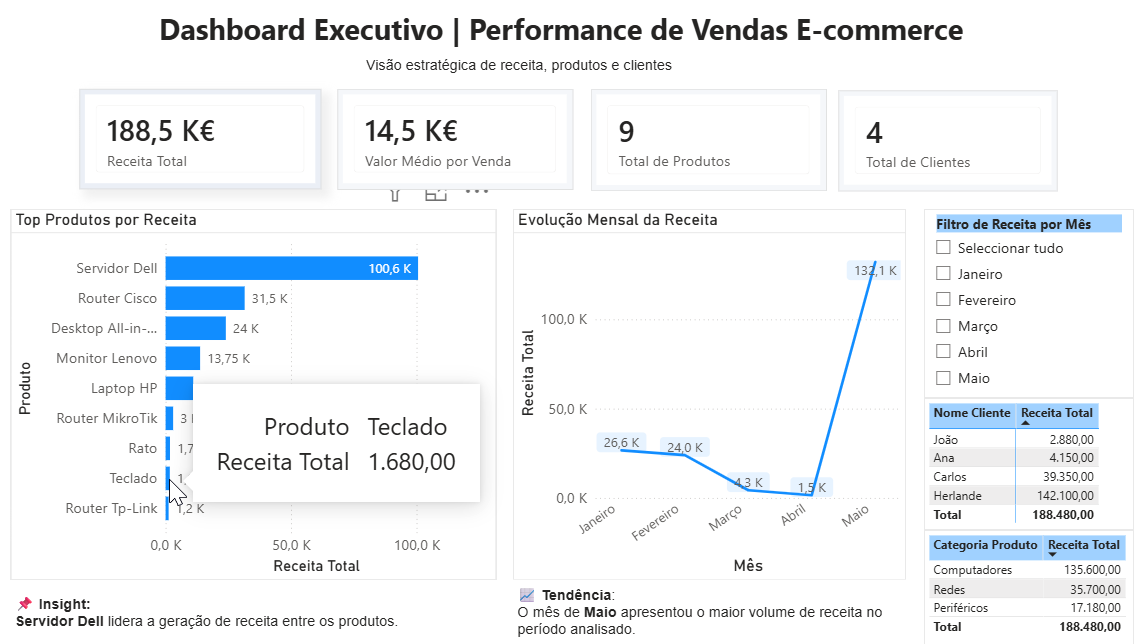

The page's visual inventory and layout, read from the dashboard file:
{"tool":"powerbi","page":{"name":"dashboard_ecommerce","canvas":[1280,720],"ordinal":0},"visuals":[{"type":"lineChart","title":"Evolução Mensal da Receita","fields":{"Y":["Vendas .Receita Total"],"Category":["Data Venda.Mês"]},"box":[573.3,233.3,436.7,411.7],"z":0},{"type":"pivotTable","fields":{"Rows":["Clientes.Nome Cliente"],"Values":["Vendas .Receita Total"]},"box":[1030,443,233.3,146.7],"z":1000},{"type":"clusteredBarChart","title":"Top Produtos por Receita","fields":{"Category":["dim_produtos.nome"],"Y":["fato_vendas.Receita Total"]},"box":[15,233.3,540,411.7],"z":2000},{"type":"textbox","box":[175,5,968.3,53.3],"z":3000},{"type":"textbox","box":[405,58.3,470,38.3],"z":4000},{"type":"cardVisual","fields":{"Data":["fato_vendas.Receita Total"]},"box":[91.7,100,268.3,111],"z":5000},{"type":"textbox","box":[15,655,453.3,51.7],"z":6000},{"type":"slicer","fields":{"Values":["Data Venda.Mês"]},"box":[1030,233.3,233.3,210],"z":7000},{"type":"pivotTable","fields":{"Rows":["Produtos.Categoria Produto"],"Values":["Vendas .Receita Total"]},"box":[1030,590,233.3,128.3],"z":8000},{"type":"cardVisual","fields":{"Data":["Vendas .Ticket Médio"]},"box":[378.3,100,261.7,111.7],"z":9000},{"type":"cardVisual","fields":{"Data":["Vendas .Total Clientes"]},"box":[935,101.7,243.3,111.7],"z":10000},{"type":"cardVisual","fields":{"Data":["Vendas .Total Produtos"]},"box":[660,100,261.7,113.3],"z":11000},{"type":"textbox","box":[573.3,645,436.7,73.3],"z":12000}]}

Visuals, with their boxes in screenshot pixels (x1, y1, x2, y2), scaled from the page's 1280x720 canvas onto the 1145x644 screenshot:
"Evolução Mensal da Receita" lineChart: Rect(513, 209, 903, 577)
pivotTable - Clientes.Nome Cliente x Vendas .Receita Total: Rect(921, 396, 1130, 527)
"Top Produtos por Receita" clusteredBarChart: Rect(13, 209, 496, 577)
textbox: Rect(157, 4, 1023, 52)
textbox: Rect(362, 52, 783, 86)
cardVisual - fato_vendas.Receita Total: Rect(82, 89, 322, 189)
textbox: Rect(13, 586, 419, 632)
slicer - Data Venda.Mês: Rect(921, 209, 1130, 397)
pivotTable - Produtos.Categoria Produto x Vendas .Receita Total: Rect(921, 528, 1130, 642)
cardVisual - Vendas .Ticket Médio: Rect(338, 89, 572, 189)
cardVisual - Vendas .Total Clientes: Rect(836, 91, 1054, 191)
cardVisual - Vendas .Total Produtos: Rect(590, 89, 824, 191)
textbox: Rect(513, 577, 903, 642)
